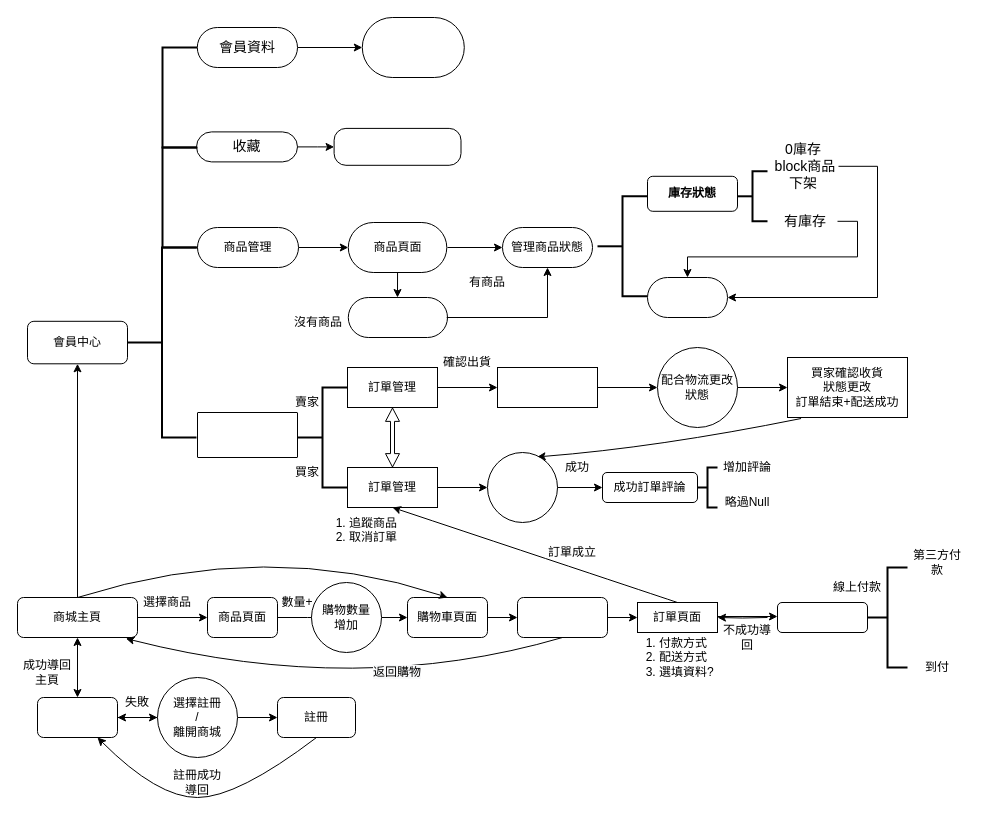
This 985x815 diagram has some shape labels left out. The shapes that lost their labels are listed below. From the top down, each one's centre as x and y in pixels, then its label:
At (412,47): "修改密碼 會員資料".
At (397,146): "收藏商品頁面".
At (397,317): "新增商品".
At (687,297): "上/下架狀態".
At (547,387): "配送狀態更改 已出貨".
At (247,435): "訂單".
At (522,487): "1.收貨成功 2.退貨 3.未收到".
At (562,617): "送出訂單/返回購物".
At (822,617): "依照付款方式".
At (77,717): "登入/第三方登入".
